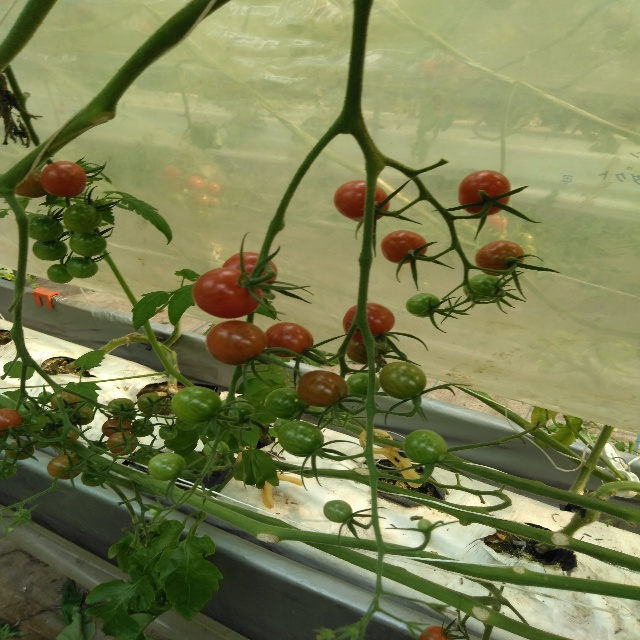l_fully_ripened: (192, 267, 262, 318), (458, 169, 510, 217), (332, 180, 389, 222), (342, 302, 395, 345), (222, 251, 278, 291), (265, 321, 313, 358), (41, 161, 87, 198), (0, 408, 23, 435), (417, 625, 452, 640)
l_green: (378, 361, 427, 400), (170, 386, 221, 423), (277, 421, 323, 458), (404, 429, 448, 464), (263, 387, 309, 419), (462, 273, 503, 301), (148, 452, 186, 482), (64, 203, 102, 232), (28, 214, 64, 242), (347, 371, 380, 400), (69, 232, 107, 257), (406, 292, 440, 318), (323, 499, 354, 524), (66, 256, 98, 279), (32, 240, 67, 261), (4, 440, 35, 460), (81, 465, 109, 487), (136, 392, 162, 415), (204, 440, 230, 462), (47, 264, 74, 283), (107, 398, 136, 415), (130, 418, 154, 438), (24, 413, 48, 432), (136, 447, 158, 464), (175, 417, 199, 431), (0, 460, 17, 479), (12, 508, 31, 523), (159, 425, 178, 439), (37, 391, 54, 404), (417, 519, 431, 532), (149, 506, 161, 516)
l_half_ripened: (205, 320, 267, 365), (295, 370, 350, 407), (474, 240, 524, 276), (380, 230, 427, 265), (345, 336, 390, 365), (16, 168, 50, 198), (46, 455, 81, 480), (106, 431, 138, 455), (101, 418, 131, 437), (51, 392, 80, 411)
